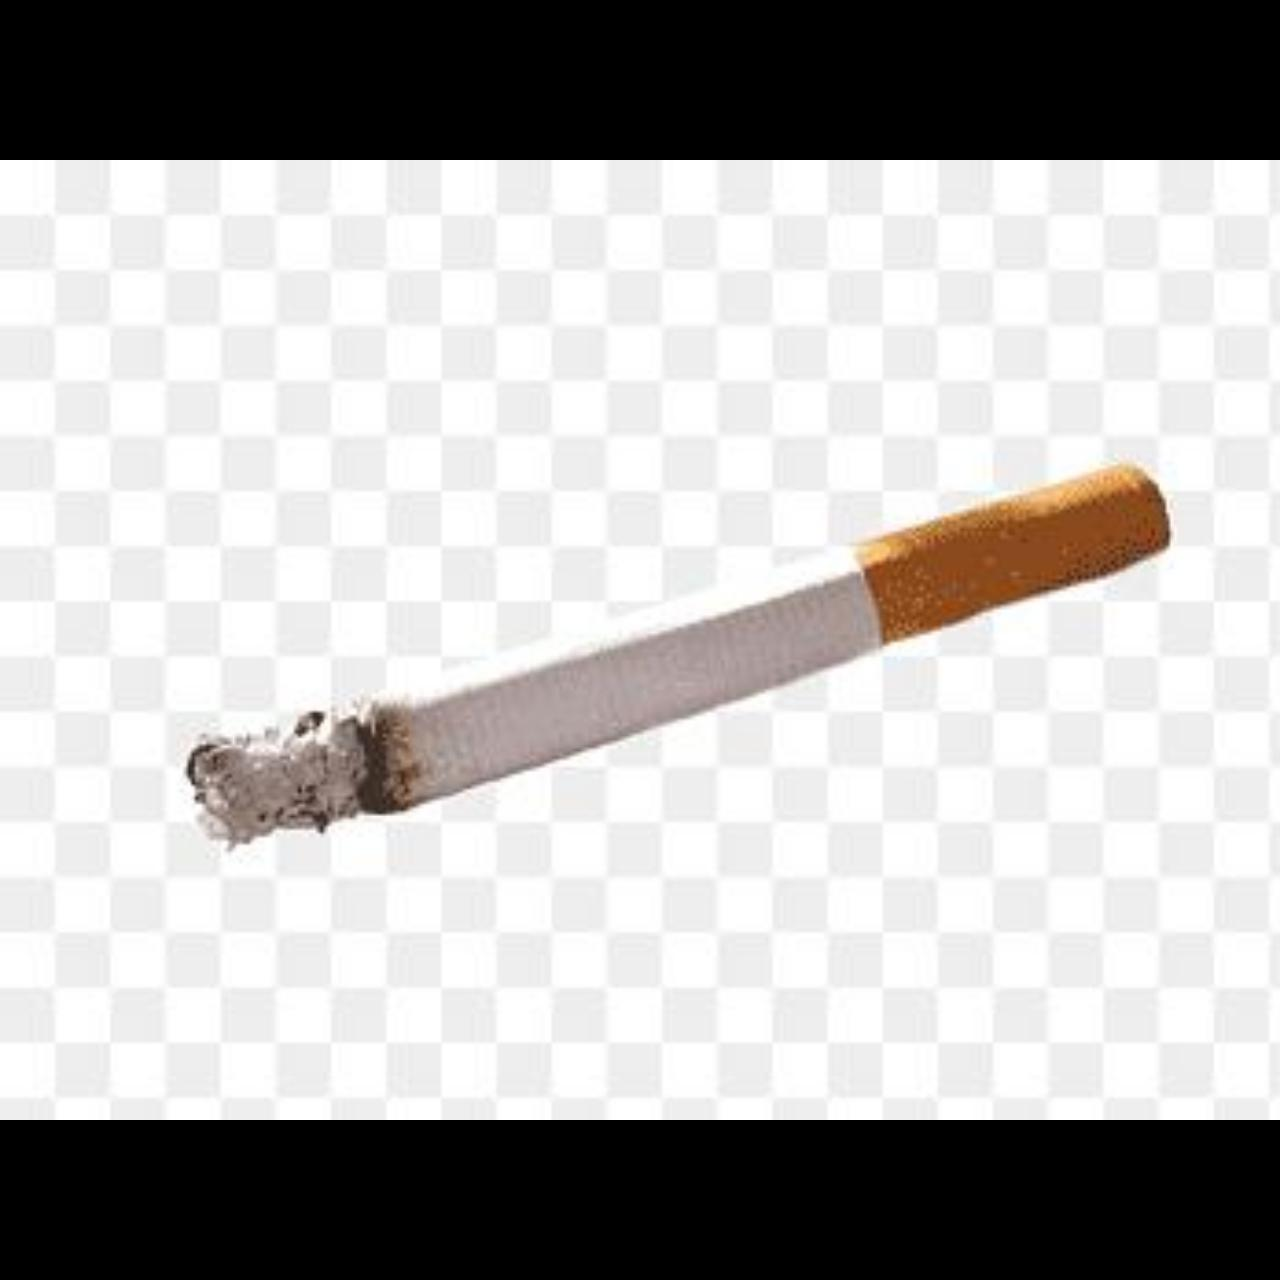cigarettes_butts: (180, 465, 1177, 847)
